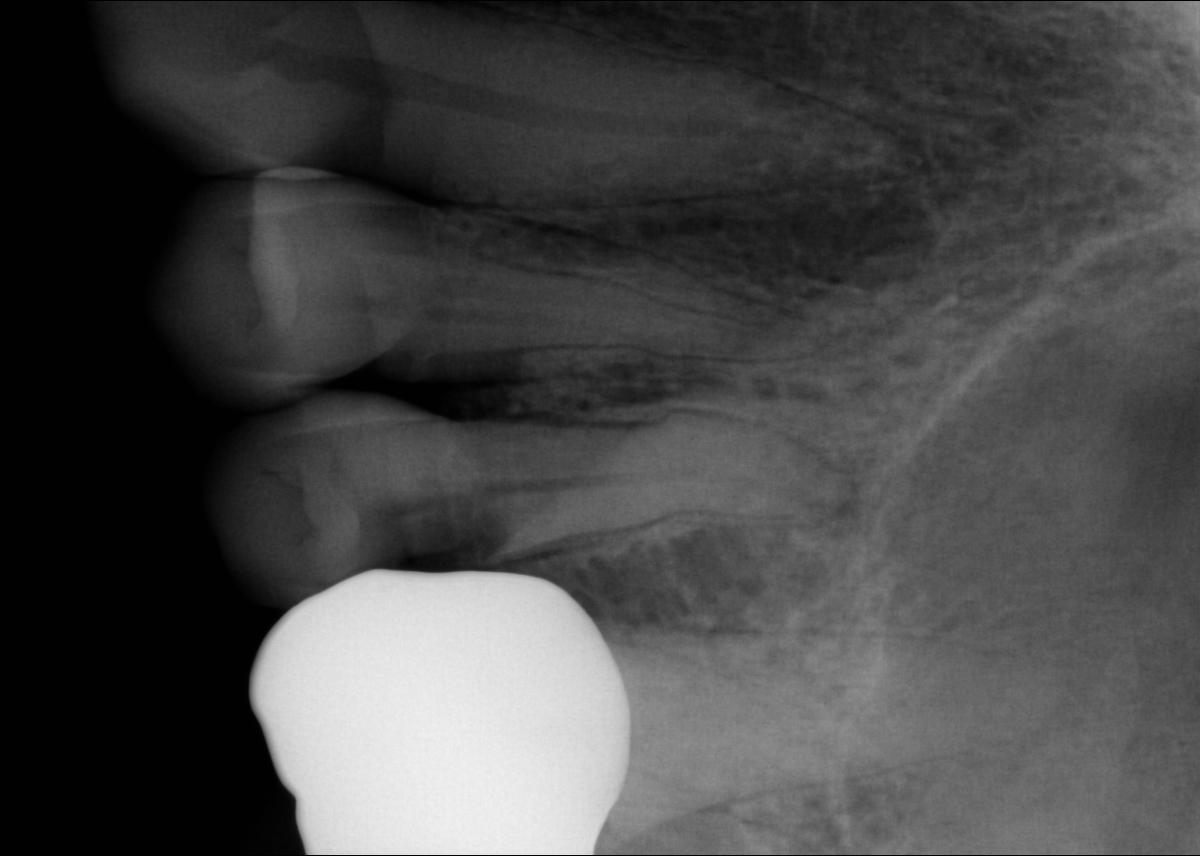Furcation Involvement: (526, 181, 936, 293)
